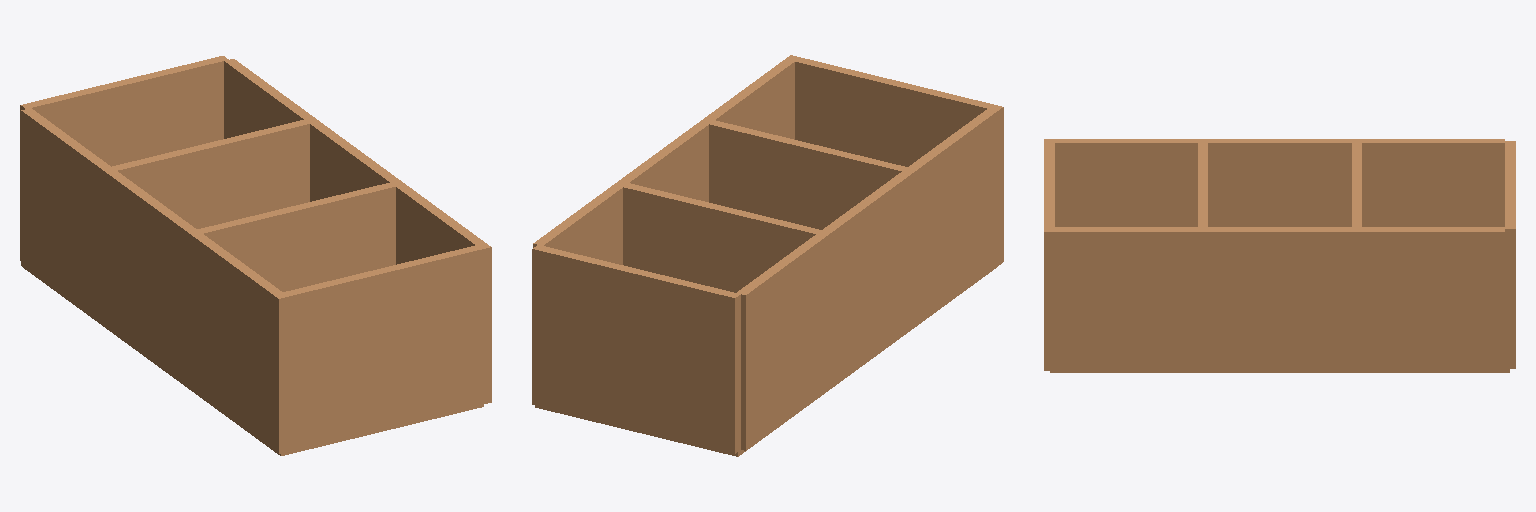
URDF robot description (lab_scene):
<robot name="lab_scene">

    <!-- Base link -->
    <link name="base_link">
        <visual>
            <origin xyz="0.0 -0.508 0.0" rpy="0.0 0.0 1.570796" />
            <geometry>
                <mesh filename="lab_scene/lab_scene.obj" scale="1 1 1" />
            </geometry>
            <material name="texture">
                <color rgba="1.0 1.0 1.0 1.0" />
            </material>
        </visual>
        <collision>
            <origin xyz="0.0 -0.508 0.0" rpy="0.0 0.0 1.570796" />
            <geometry>
                <mesh filename="lab_scene/lab_scene_vhacd.stl" scale="1 1 1" />
            </geometry>
        </collision>
        <inertial>
            <mass value="1.0" />
            <inertia ixx="1e-3" ixy="0.0" ixz="0.0" iyy="1e-3" iyz="0.0" izz="1e-3" />
        </inertial>
    </link>

    <!-- Wall 1 -->
    <link name="wall_1">
        <visual>
            <origin xyz="-1 -1.26 0.4" rpy="0.0 0.0 0.0" />
            <geometry>
                <box size="0.45 0.022 0.33" />
            </geometry>
            <material name="wood_brown"/>
        </visual>
        <collision>
            <origin xyz="-1 -1.26 0.4" rpy="0.0 0.0 0.0" />
            <geometry>
                <box size="0.45 0.022 0.33" />
            </geometry>
        </collision>
        <inertial>
            <mass value="1.0" />
            <inertia ixx="1e-3" ixy="0.0" ixz="0.0" iyy="1e-3" iyz="0.0" izz="1e-3" />
        </inertial>
    </link>
    
    <joint name="wall_1_joint" type="fixed">
        <parent link="base_link" />
        <child link="wall_1" />
        <origin xyz="0.0 0.0 0.0" rpy="0.0 0.0 0.0" />
    </joint>

	 <!-- Wall 2 -->
    <link name="wall_2">
        <visual>
            <origin xyz="-1 -0.93 0.4" rpy="0.0 0.0 0.0" />
            <geometry>
                <box size="0.45 0.022 0.33" />
            </geometry>
            <material name="wood_brown"/>
        </visual>
        <collision>
            <origin xyz="-1 -0.93 0.4" rpy="0.0 0.0 0.0" />
            <geometry>
                <box size="0.45 0.022 0.33" />
            </geometry>
        </collision>
        <inertial>
            <mass value="1.0" />
            <inertia ixx="1e-3" ixy="0.0" ixz="0.0" iyy="1e-3" iyz="0.0" izz="1e-3" />
        </inertial>
    </link>
    
    <joint name="wall_2_joint" type="fixed">
        <parent link="base_link" />
        <child link="wall_2" />
        <origin xyz="0.0 0.0 0.0" rpy="0.0 0.0 0.0" />
    </joint>

	<!-- Wall 3 -->
    <link name="wall_3">
        <visual>
            <origin xyz="-1 -0.60 0.4" rpy="0.0 0.0 0.0" />
            <geometry>
                <box size="0.45 0.022 0.33" />
            </geometry>
            <material name="wood_brown"/>
        </visual>
        <collision>
            <origin xyz="-1 -0.60 0.4" rpy="0.0 0.0 0.0" />
            <geometry>
                <box size="0.45 0.022 0.33" />
            </geometry>
        </collision>
        <inertial>
            <mass value="1.0" />
            <inertia ixx="1e-3" ixy="0.0" ixz="0.0" iyy="1e-3" iyz="0.0" izz="1e-3" />
        </inertial>
    </link>
    
    <joint name="wall_3_joint" type="fixed">
        <parent link="base_link" />
        <child link="wall_3" />
        <origin xyz="0.0 0.0 0.0" rpy="0.0 0.0 0.0" />
    </joint>

	<!-- Wall 4 -->
    <link name="wall_4">
        <visual>
            <origin xyz="-1 -0.27 0.4" rpy="0.0 0.0 0.0" />
            <geometry>
                <box size="0.45 0.022 0.33" />
            </geometry>
            <material name="wood_brown"/>
        </visual>
        <collision>
            <origin xyz="-1 -0.27 0.4" rpy="0.0 0.0 0.0" />
            <geometry>
                <box size="0.45 0.022 0.33" />
            </geometry>
        </collision>
        <inertial>
            <mass value="1.0" />
            <inertia ixx="1e-3" ixy="0.0" ixz="0.0" iyy="1e-3" iyz="0.0" izz="1e-3" />
        </inertial>
    </link>
    
    <joint name="wall_4_joint" type="fixed">
        <parent link="base_link" />
        <child link="wall_4" />
        <origin xyz="0.0 0.0 0.0" rpy="0.0 0.0 0.0" />
    </joint>

	<!-- Wall 5 -->
    <link name="wall_5">
        <visual>
            <origin xyz="-1 -0.765 0.235" rpy="0.0 0.0 0.0" />
            <geometry>
                <box size="0.45 0.99 0.022" />
            </geometry>
            <material name="wood_brown"/>
        </visual>
        <collision>
            <origin xyz="-1 -0.765 0.235" rpy="0.0 0.0 0.0" />
            <geometry>
                <box size="0.45 0.99 0.022" />
            </geometry>
        </collision>
        <inertial>
            <mass value="1.0" />
            <inertia ixx="1e-3" ixy="0.0" ixz="0.0" iyy="1e-3" iyz="0.0" izz="1e-3" />
        </inertial>
    </link>
    
    <joint name="wall_5_joint" type="fixed">
        <parent link="base_link" />
        <child link="wall_5" />
        <origin xyz="0.0 0.0 0.0" rpy="0.0 0.0 0.0" />
    </joint>

	<!-- Wall 6 -->
    <link name="wall_6">
        <visual>
            <origin xyz="-1.225 -0.776 0.4" rpy="0.0 0.0 0.0" />
            <geometry>
                <box size="0.022 0.99 0.33" />
            </geometry>
            <material name="wood_brown"/>
        </visual>
        <collision>
            <origin xyz="-1.225 -0.776 0.4" rpy="0.0 0.0 0.0" />
            <geometry>
                <box size="0.022 0.99 0.33" />
            </geometry>
        </collision>
        <inertial>
            <mass value="1.0" />
            <inertia ixx="1e-3" ixy="0.0" ixz="0.0" iyy="1e-3" iyz="0.0" izz="1e-3" />
        </inertial>
    </link>
    
    <joint name="wall_6_joint" type="fixed">
        <parent link="base_link" />
        <child link="wall_6" />
        <origin xyz="0.0 0.0 0.0" rpy="0.0 0.0 0.0" />
    </joint>

	<!-- Wall 7 -->
    <link name="wall_7">
        <visual>
            <origin xyz="-0.775 -0.776 0.4" rpy="0.0 0.0 0.0" />
            <geometry>
                <box size="0.022 0.99 0.33" />
            </geometry>
            <material name="wood_brown"/>
        </visual>
        <collision>
            <origin xyz="-0.775 -0.776 0.4" rpy="0.0 0.0 0.0" />
            <geometry>
                <box size="0.022 0.99 0.33" />
            </geometry>
        </collision>
        <inertial>
            <mass value="1.0" />
            <inertia ixx="1e-3" ixy="0.0" ixz="0.0" iyy="1e-3" iyz="0.0" izz="1e-3" />
        </inertial>
    </link>
    
    <joint name="wall_7_joint" type="fixed">
        <parent link="base_link" />
        <child link="wall_7" />
        <origin xyz="0.0 0.0 0.0" rpy="0.0 0.0 0.0" />
    </joint>

    <material name="wood_brown">
        <color rgba="0.84 0.64 0.46 1.0"/>
    </material>
</robot>

--- Render facts (derived) ---
Views: 3 orthographic renders of the robot side by side, from view 1: azimuth 30°, elevation 25°; view 2: azimuth 150°, elevation 25°; view 3: azimuth 270°, elevation 25°.
Model lab_scene with 8 links and 7 joints (7 fixed), rooted at base_link, posed every joint at zero.
Visible links, largest first — view 1: wall_6, wall_1, wall_4, wall_2, wall_3, wall_7, wall_5; view 2: wall_6, wall_4, wall_3, wall_1, wall_2, wall_7, wall_5; view 3: wall_7, wall_6, wall_4, wall_1, wall_5, wall_3, wall_2.
Boxes of the visible links, left/top/right/bottom form: wall_6: left=21, top=108, right=288, bottom=453; wall_1: left=278, top=244, right=486, bottom=452; wall_4: left=20, top=56, right=228, bottom=260; wall_2: left=193, top=182, right=399, bottom=291; wall_3: left=108, top=119, right=311, bottom=228; wall_7: left=224, top=59, right=491, bottom=403; wall_5: left=24, top=268, right=483, bottom=455; wall_6: left=737, top=104, right=1003, bottom=450; wall_4: left=532, top=245, right=740, bottom=453; wall_3: left=623, top=183, right=826, bottom=292; wall_1: left=791, top=56, right=997, bottom=166; wall_2: left=705, top=119, right=910, bottom=229; wall_7: left=533, top=55, right=798, bottom=264; wall_5: left=535, top=268, right=995, bottom=456; wall_7: left=1044, top=227, right=1504, bottom=370; wall_6: left=1044, top=139, right=1504, bottom=226; wall_4: left=1505, top=141, right=1515, bottom=368; wall_1: left=1044, top=141, right=1054, bottom=228; wall_5: left=1050, top=369, right=1509, bottom=372; wall_3: left=1352, top=141, right=1361, bottom=228; wall_2: left=1198, top=141, right=1207, bottom=228.
Bounding box of the posed robot: 0.472 × 1.01 × 0.341 m (x, y, z).
Meshes: 1 distinct files referenced, 0 mesh visuals loaded (none loaded); not drawn: 1 (reference not matched to a file when rendering).